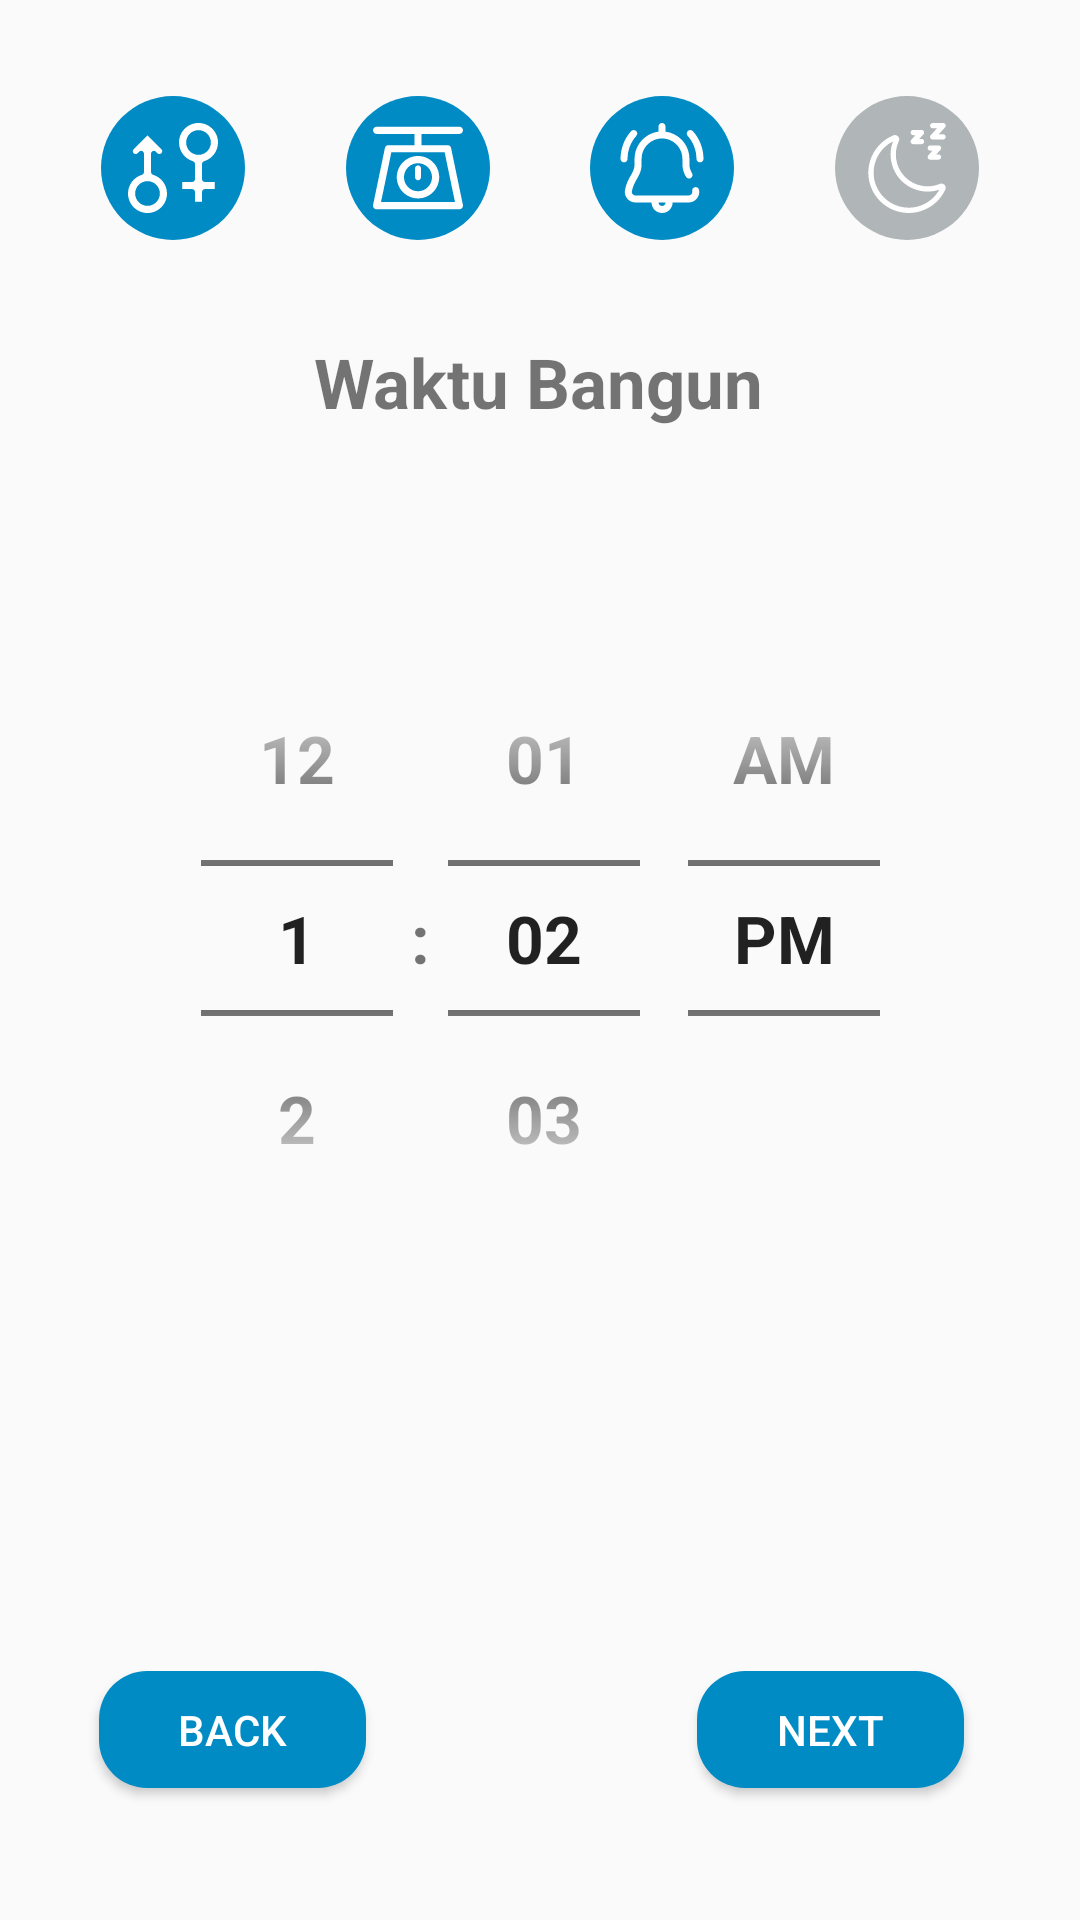

Screen size 1080*1920. Icon name, then its center in pixels as [x,y]:
alarm: [662,168]
gender symbols: [173,168]
scale: [418,168]
sleep: [907,168]
